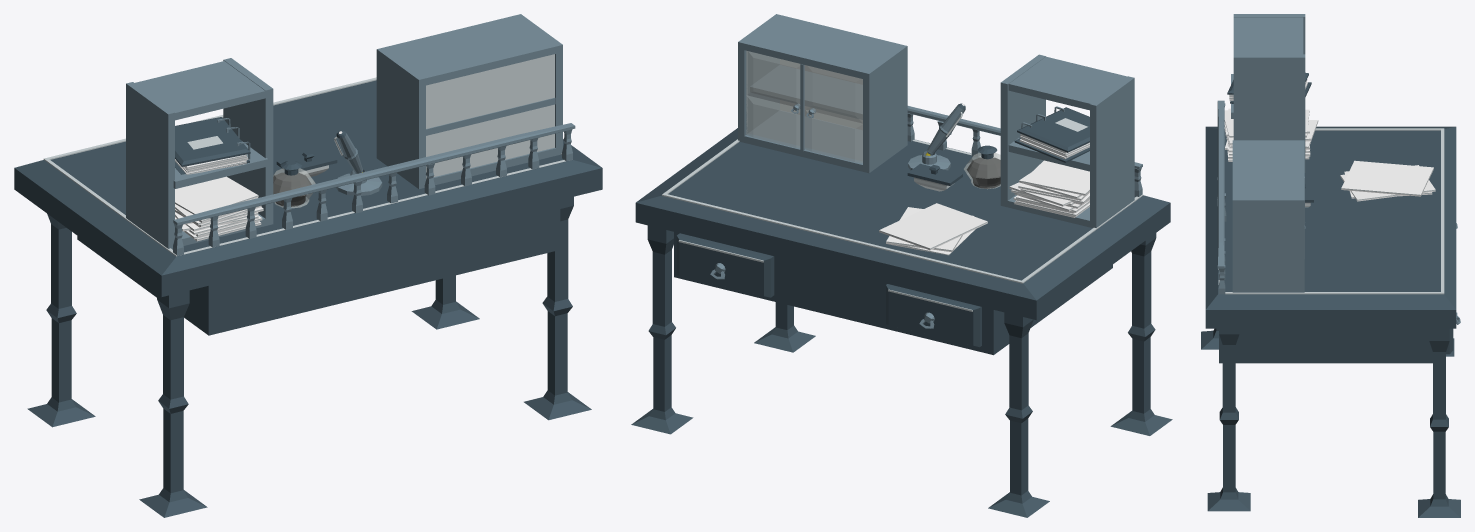
The model's file is Old-Fashioned Desk.glb.
3 views of the same model, side by side, from view 1: azimuth 30°, elevation 25°; view 2: azimuth 150°, elevation 25°; view 3: azimuth 270°, elevation 25° (orthographic). The views are drawn at different scales.
Visible parts, largest first — view 1: Node; view 2: Node; view 3: Node.
Boxes of the visible parts, box(x1,y1,x2,y2) form: Node: box(14, 14, 602, 517); Node: box(631, 14, 1172, 517); Node: box(1201, 14, 1460, 517).
Size of the model in its own units: 5.1 by 4.25 by 3.04.
